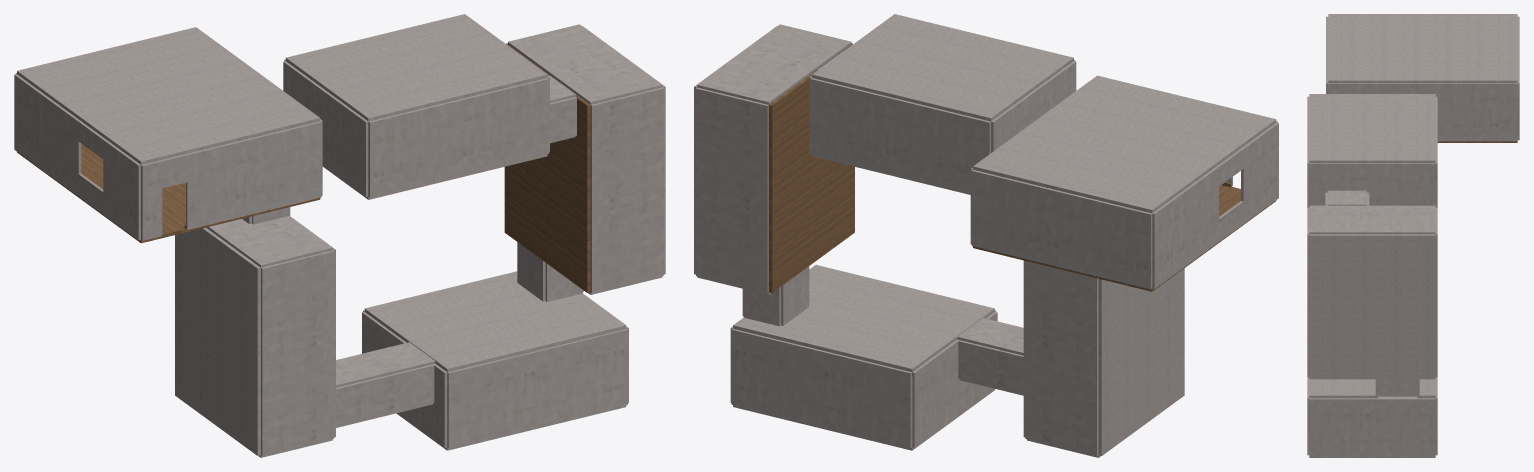
The model's file is escenario.glb.
The picture shows the model from 3 angles, left to right: view 1: azimuth 30°, elevation 25°; view 2: azimuth 150°, elevation 25°; view 3: azimuth 270°, elevation 25°; orthographic projection. The views are drawn at different scales.
Visible parts, largest first — view 1: escenario_completo; view 2: escenario_completo; view 3: escenario_completo.
Part boxes in pixels (x1=…): escenario_completo: x1=14, y1=14, x2=665, y2=457; escenario_completo: x1=694, y1=14, x2=1278, y2=457; escenario_completo: x1=1307, y1=14, x2=1519, y2=457.
Bounding box in the file's own units: 28.72 × 18.76 × 13.48.
14 materials, 14 textured.
